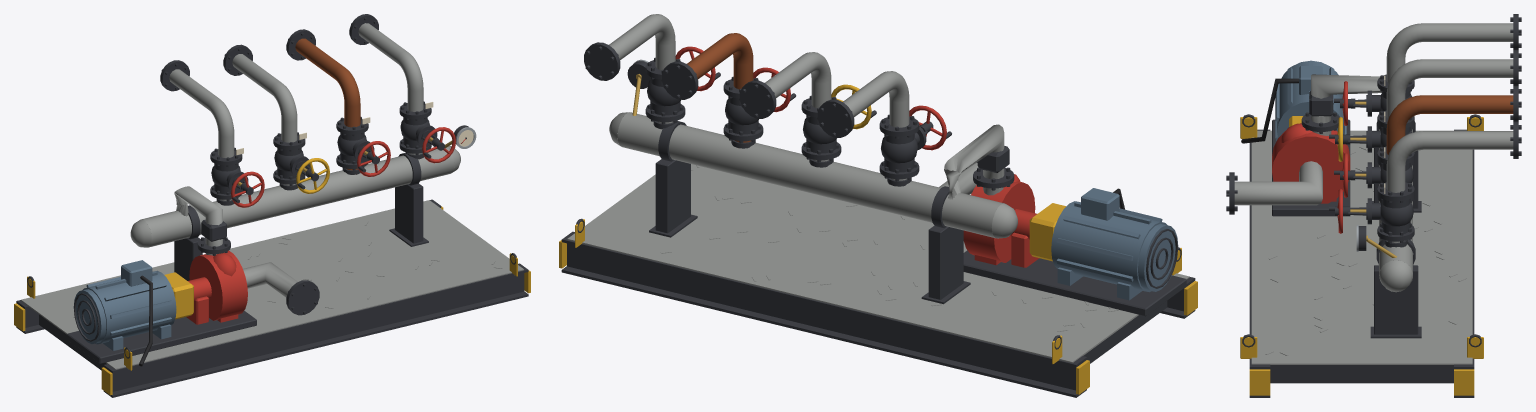
File: deco_pipe_manifold.fbx
3 views of the same model, side by side, from view 1: azimuth 30°, elevation 25°; view 2: azimuth 150°, elevation 25°; view 3: azimuth 270°, elevation 25° (orthographic). The views are drawn at different scales.
Visible parts, largest first — view 1: Pipe_Manifold_Skid, Pipe_Manifold_Header, Pipe_Manifold_Fittings, Pipe_Manifold_Pump, Pipe_Manifold_Wheel1, Pipe_Manifold_Wheel3, Pipe_Manifold_Wheel2, Pipe_Manifold_Wheel4; view 2: Pipe_Manifold_Skid, Pipe_Manifold_Header, Pipe_Manifold_Pump, Pipe_Manifold_Fittings, Pipe_Manifold_Wheel1; view 3: Pipe_Manifold_Skid, Pipe_Manifold_Fittings, Pipe_Manifold_Header, Pipe_Manifold_Pump, Pipe_Manifold_Wheel2, Pipe_Manifold_Wheel4, Pipe_Manifold_Wheel1, Pipe_Manifold_Wheel3.
Part boxes in pixels (x1,y1,x2,y2): Pipe_Manifold_Skid: (14, 199, 530, 397); Pipe_Manifold_Header: (130, 14, 460, 247); Pipe_Manifold_Fittings: (139, 17, 476, 366); Pipe_Manifold_Pump: (67, 250, 256, 363); Pipe_Manifold_Wheel1: (231, 171, 264, 207); Pipe_Manifold_Wheel3: (357, 141, 390, 176); Pipe_Manifold_Wheel2: (296, 158, 329, 193); Pipe_Manifold_Wheel4: (422, 127, 455, 163); Pipe_Manifold_Skid: (559, 164, 1197, 397); Pipe_Manifold_Header: (584, 14, 1017, 238); Pipe_Manifold_Pump: (963, 174, 1186, 316); Pipe_Manifold_Fittings: (585, 46, 1124, 304); Pipe_Manifold_Wheel1: (909, 105, 951, 150); Pipe_Manifold_Skid: (1240, 114, 1483, 397); Pipe_Manifold_Fittings: (1226, 17, 1521, 338); Pipe_Manifold_Header: (1379, 14, 1518, 292); Pipe_Manifold_Pump: (1272, 60, 1350, 216); Pipe_Manifold_Wheel2: (1329, 117, 1345, 161); Pipe_Manifold_Wheel4: (1329, 189, 1345, 233); Pipe_Manifold_Wheel1: (1334, 81, 1350, 125); Pipe_Manifold_Wheel3: (1334, 153, 1350, 197).
Bounding box in the file's own units: 334 × 159 × 174.
